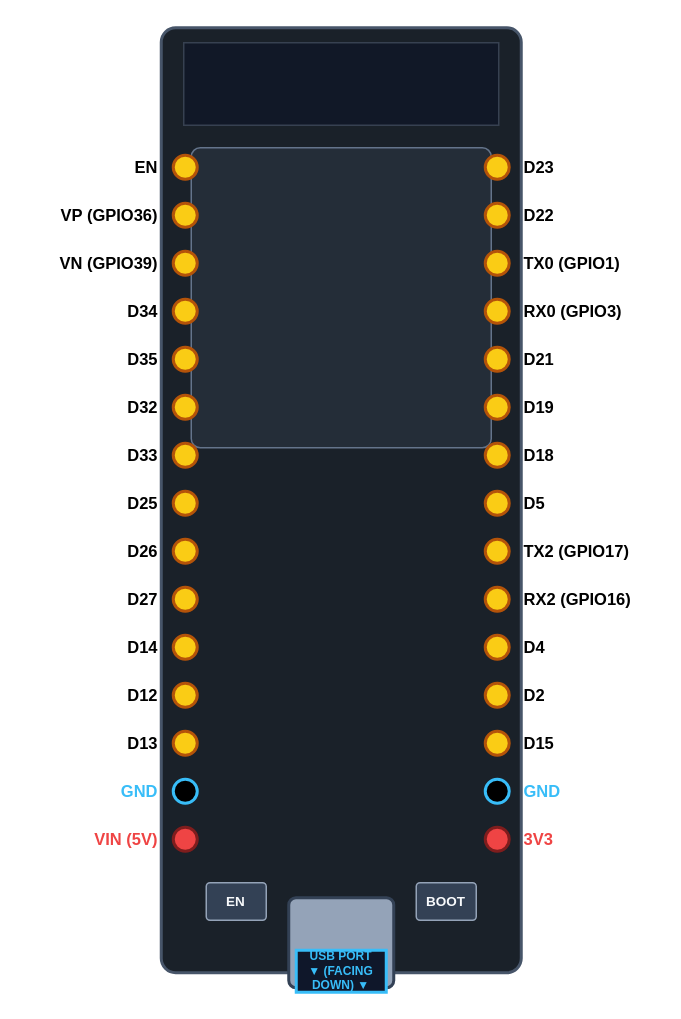
This 681x1019 diagram has some shape labels left out. Each missing label, with the centre of its shape:
ESP-WROOM-32: (340,297)
PCB ANTENNA: (340,83)
